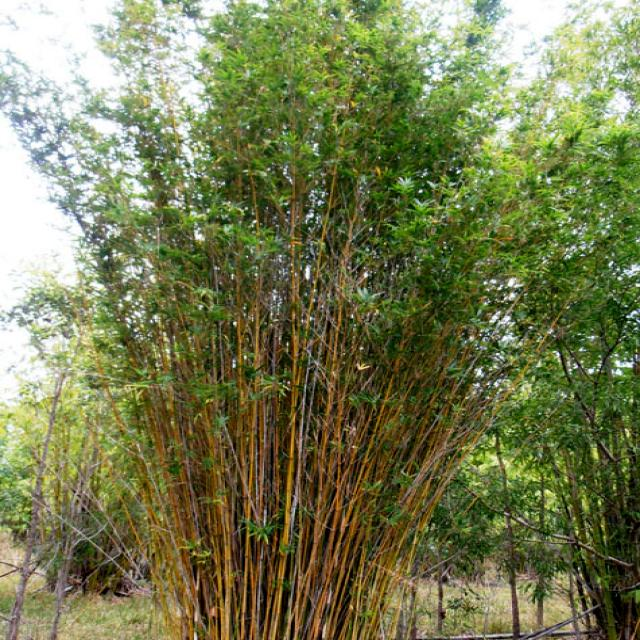Clumping: (0, 11, 593, 640)
